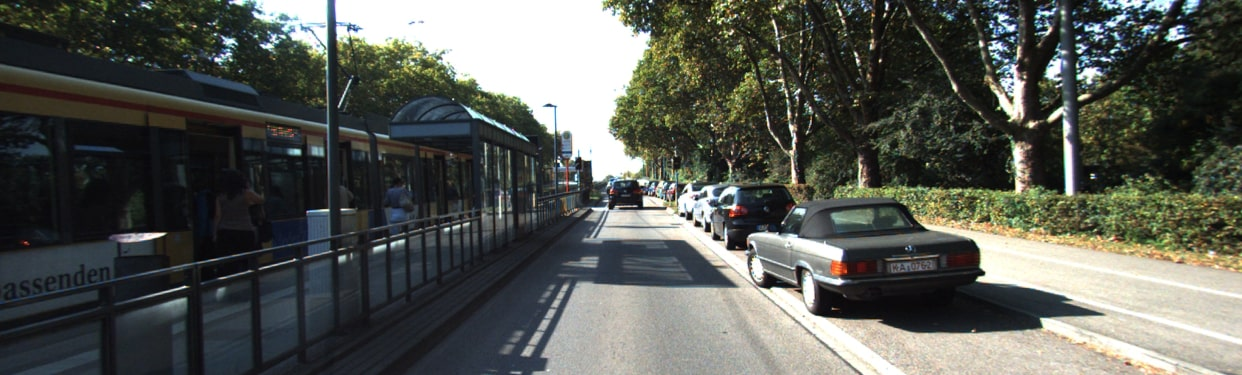Tram: (1, 56, 590, 346)
car: (750, 198, 988, 310), (699, 178, 793, 245), (601, 179, 648, 211)
person: (216, 168, 276, 284), (384, 178, 420, 258)
